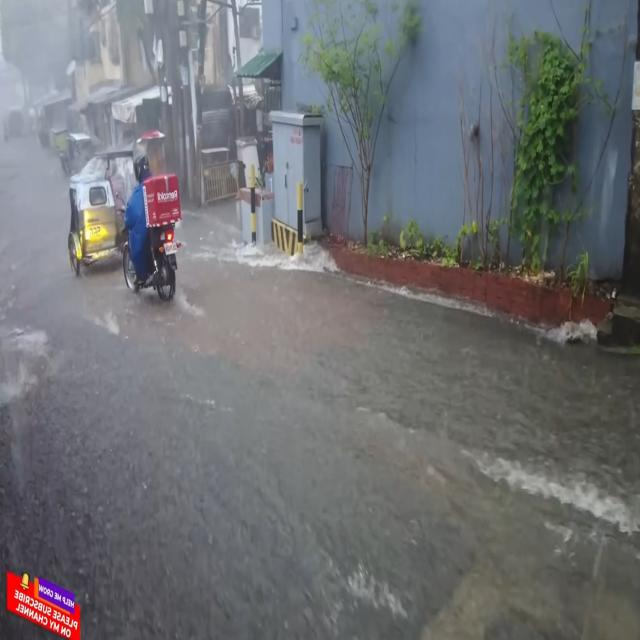full: (130, 146, 156, 186)
